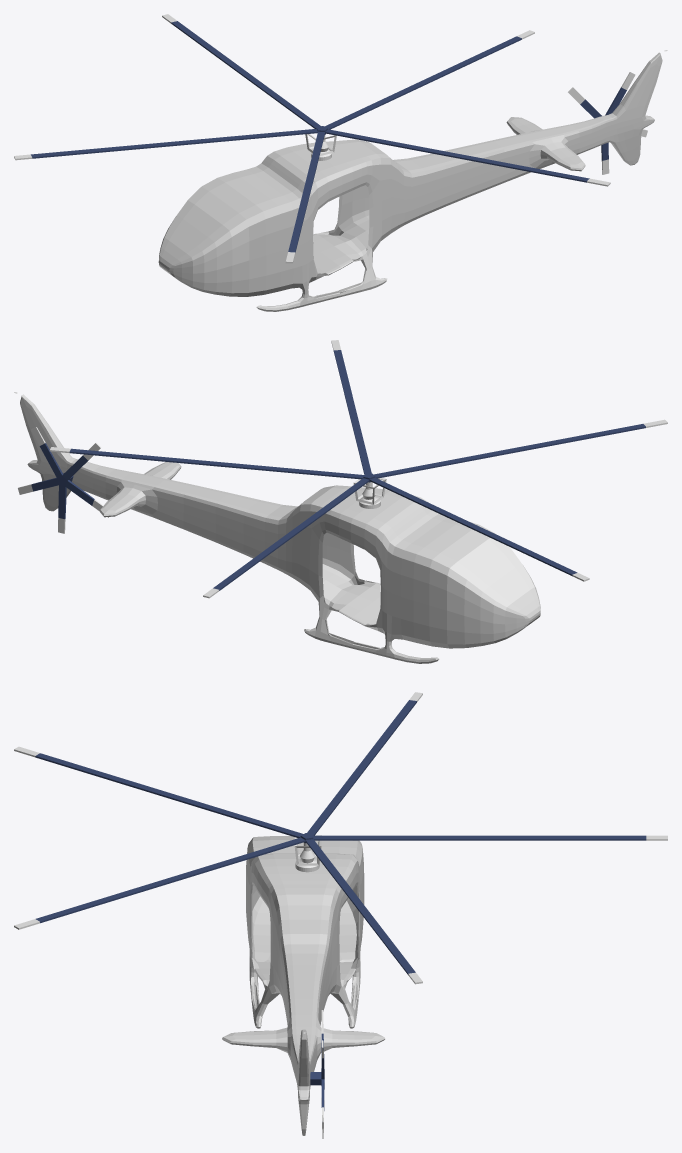
Rendered from uploads_files_2396932_helicopter 1.fbx.
The picture shows the model from 3 angles, top to bottom: view 1: azimuth 30°, elevation 25°; view 2: azimuth 150°, elevation 25°; view 3: azimuth 270°, elevation 25°; orthographic projection. The views are drawn at different scales.
Parts seen in each view (by area): view 1: Cube, Cylinder, Cube.002; view 2: Cube, Cylinder, Cube.002, Cube.001; view 3: Cube, Cylinder.
Boxes of the visible parts, x1,y1,x2,y2 form: Cube: (158, 50, 667, 311); Cylinder: (14, 14, 610, 263); Cube.002: (568, 72, 647, 174); Cube: (14, 392, 540, 663); Cylinder: (49, 340, 667, 598); Cube.002: (18, 427, 108, 533); Cube.001: (353, 478, 386, 508); Cube: (222, 836, 385, 1135); Cylinder: (14, 692, 667, 984).
Size of the model in its own units: 2664 by 636 by 2179.
